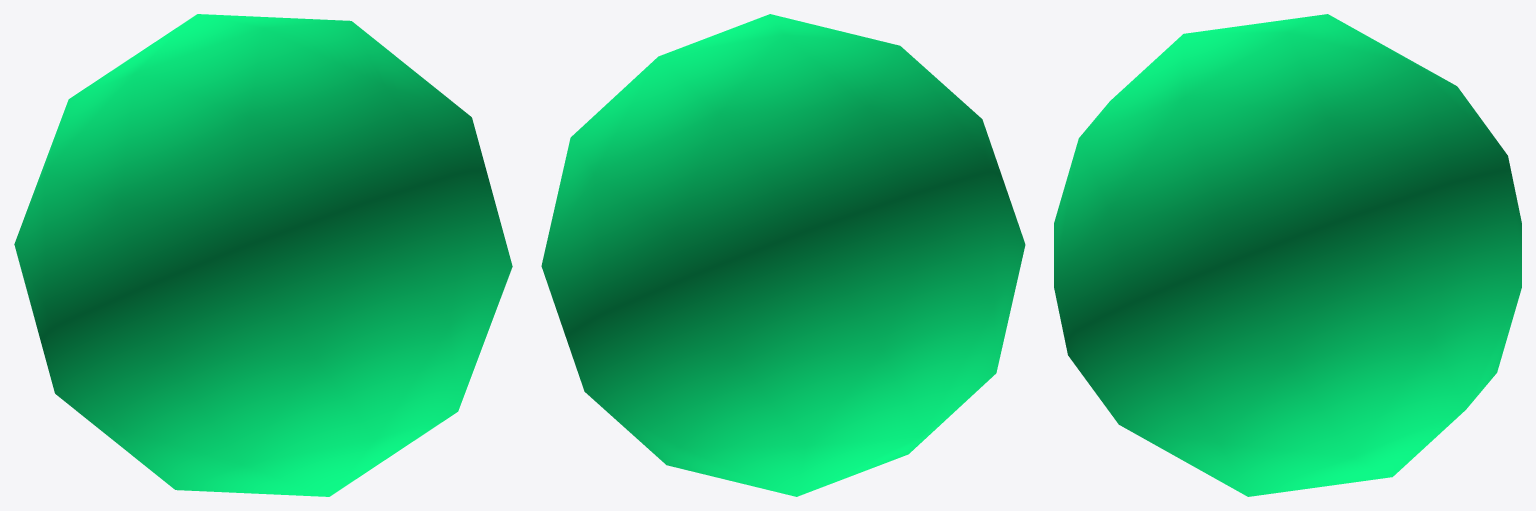
File: okami.ico.obj
The picture shows the model from 3 angles, left to right: view 1: azimuth 30°, elevation 25°; view 2: azimuth 150°, elevation 25°; view 3: azimuth 270°, elevation 25°; orthographic projection. The views are drawn at different scales.
Size of the model in its own units: 0.585 by 0.5852 by 0.5569.
1 material, 1 textured.
